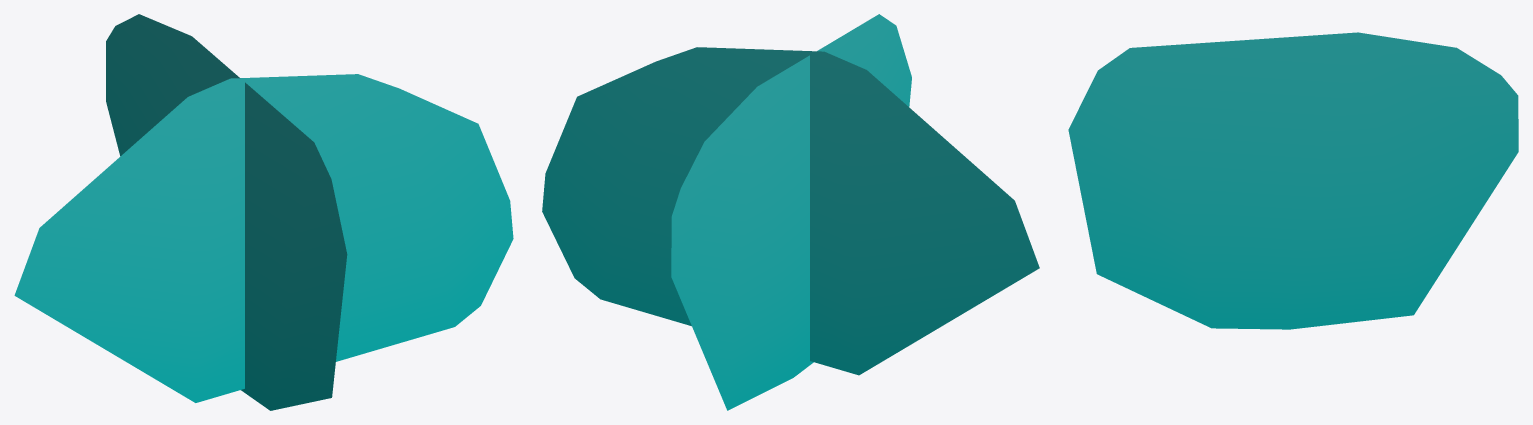
File: Downy_Willow_wknlfiuqx_Mid_wknlfiuqx_VarI_LOD3.fbx
The picture shows the model from 3 angles, left to right: view 1: azimuth 30°, elevation 25°; view 2: azimuth 150°, elevation 25°; view 3: azimuth 270°, elevation 25°; orthographic projection. The views are drawn at different scales.
Visible parts, largest first — view 1: _pjwh_VarI_LOD6; view 2: _pjwh_VarI_LOD6; view 3: _pjwh_VarI_LOD6.
Boxes of the visible parts, box(x1,y1,x2,y2) form: _pjwh_VarI_LOD6: box(14, 14, 513, 410); _pjwh_VarI_LOD6: box(542, 14, 1039, 410); _pjwh_VarI_LOD6: box(1068, 32, 1518, 329).
Size of the model in its own units: 155 by 94.56 by 130.
